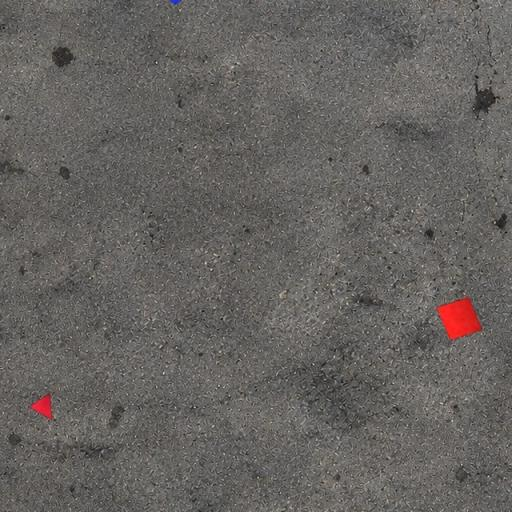RED_SQUARE: (435, 296, 483, 341)
